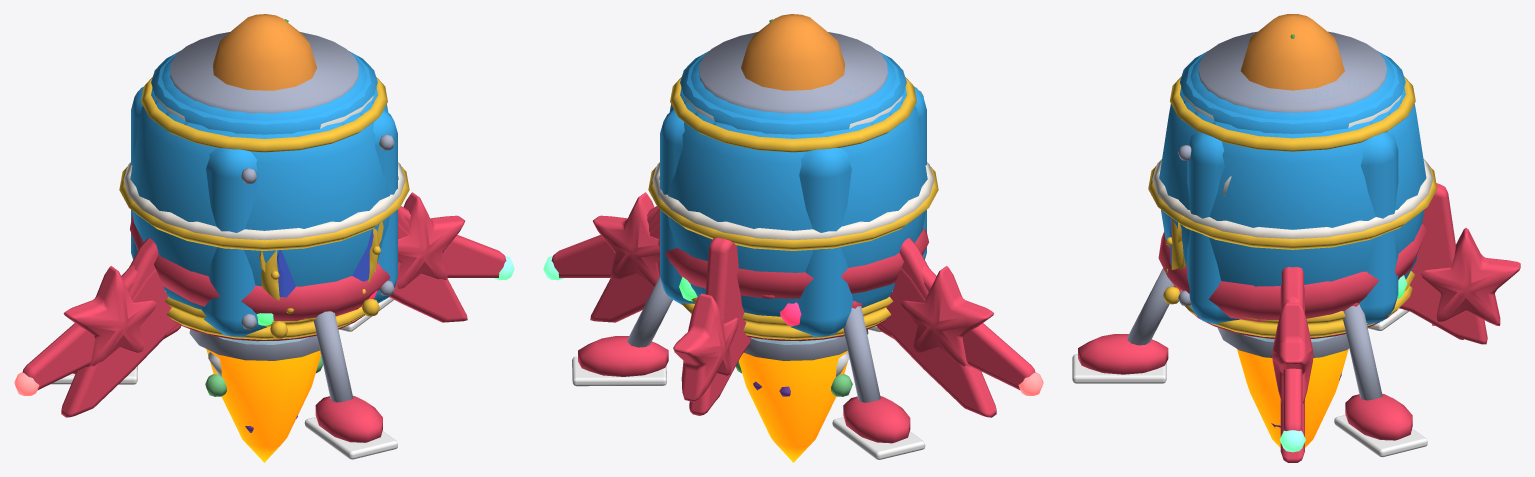
Rendered from parts.glb.
3 renders of one model, left to right at view 1: azimuth 30°, elevation 25°; view 2: azimuth 150°, elevation 25°; view 3: azimuth 270°, elevation 25°, orthographic.
Visible parts, largest first — view 1: tank_barrel_body, tank_box_body, tank_barrel, tank_ball_collar_hi, flame, booster_mega_body, nose_icecream, tank_candy_body, fins_fish_lobe_l, fins_star_star_0, fins_star_star_1, tank_ball_belt (+12 smaller); view 2: tank_barrel_body, tank_box_body, tank_barrel, tank_ball_collar_hi, flame, booster_mega_body, tank_candy_body, nose_icecream, fins_fish_lobe_l, fins_star_star_0, fins_star_star_2, fins_star_star_1 (+15 smaller); view 3: tank_barrel_body, tank_box_body, tank_barrel, tank_ball_collar_hi, booster_mega_body, nose_icecream, tank_candy_body, fins_star_star_2, flame, fins_classic, tank_ball_belt, fins_legs_shoe_2 (+14 smaller).
Boxes of the visible parts, left/top/right/bottom form: tank_barrel_body: left=130, top=51, right=398, bottom=309; tank_box_body: left=131, top=87, right=397, bottom=336; tank_barrel: left=119, top=77, right=409, bottom=327; tank_ball_collar_hi: left=170, top=32, right=358, bottom=113; flame: left=206, top=349, right=320, bottom=462; booster_mega_body: left=213, top=14, right=316, bottom=90; nose_icecream: left=130, top=214, right=398, bottom=322; tank_candy_body: left=151, top=51, right=377, bottom=134; fins_fish_lobe_l: left=61, top=269, right=178, bottom=417; fins_star_star_0: left=63, top=266, right=156, bottom=367; fins_star_star_1: left=388, top=192, right=464, bottom=297; tank_ball_belt: left=123, top=162, right=405, bottom=240; tank_barrel_body: left=659, top=51, right=927, bottom=316; tank_box_body: left=660, top=87, right=926, bottom=336; tank_barrel: left=648, top=77, right=938, bottom=327; tank_ball_collar_hi: left=699, top=32, right=887, bottom=113; flame: left=738, top=351, right=847, bottom=462; booster_mega_body: left=741, top=14, right=844, bottom=90; tank_candy_body: left=680, top=51, right=906, bottom=134; nose_icecream: left=658, top=227, right=928, bottom=298; fins_fish_lobe_l: left=879, top=268, right=996, bottom=417; fins_star_star_0: left=901, top=266, right=994, bottom=366; fins_star_star_2: left=673, top=293, right=738, bottom=402; fins_star_star_1: left=593, top=192, right=659, bottom=287; tank_barrel_body: left=1159, top=51, right=1426, bottom=310; tank_box_body: left=1187, top=131, right=1398, bottom=324; tank_barrel: left=1148, top=76, right=1437, bottom=324; tank_ball_collar_hi: left=1198, top=31, right=1386, bottom=112; booster_mega_body: left=1240, top=14, right=1344, bottom=90; nose_icecream: left=1158, top=223, right=1426, bottom=321; tank_candy_body: left=1180, top=51, right=1405, bottom=133; fins_star_star_2: left=1420, top=228, right=1520, bottom=325; flame: left=1237, top=349, right=1348, bottom=447; fins_classic: left=1281, top=227, right=1487, bottom=344; tank_ball_belt: left=1152, top=159, right=1433, bottom=238; fins_legs_shoe_2: left=1078, top=334, right=1168, bottom=374.
Size of the model in its own units: 3.04 by 2.6 by 2.38.
